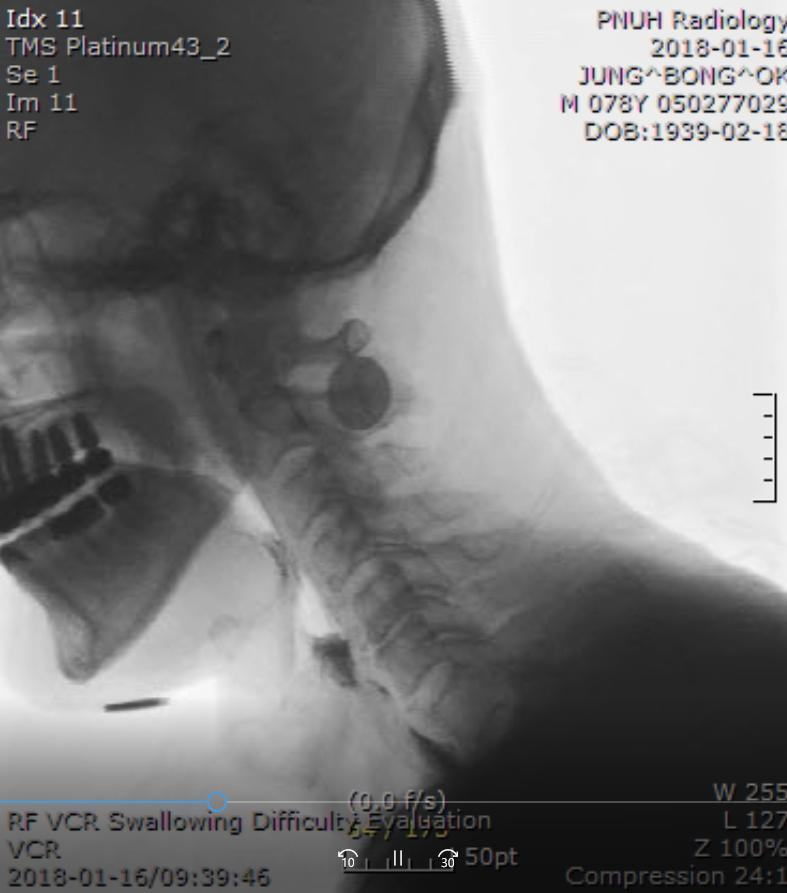dros: (288, 598, 340, 646)
food: (288, 615, 354, 698)
uros: (229, 523, 299, 594)
